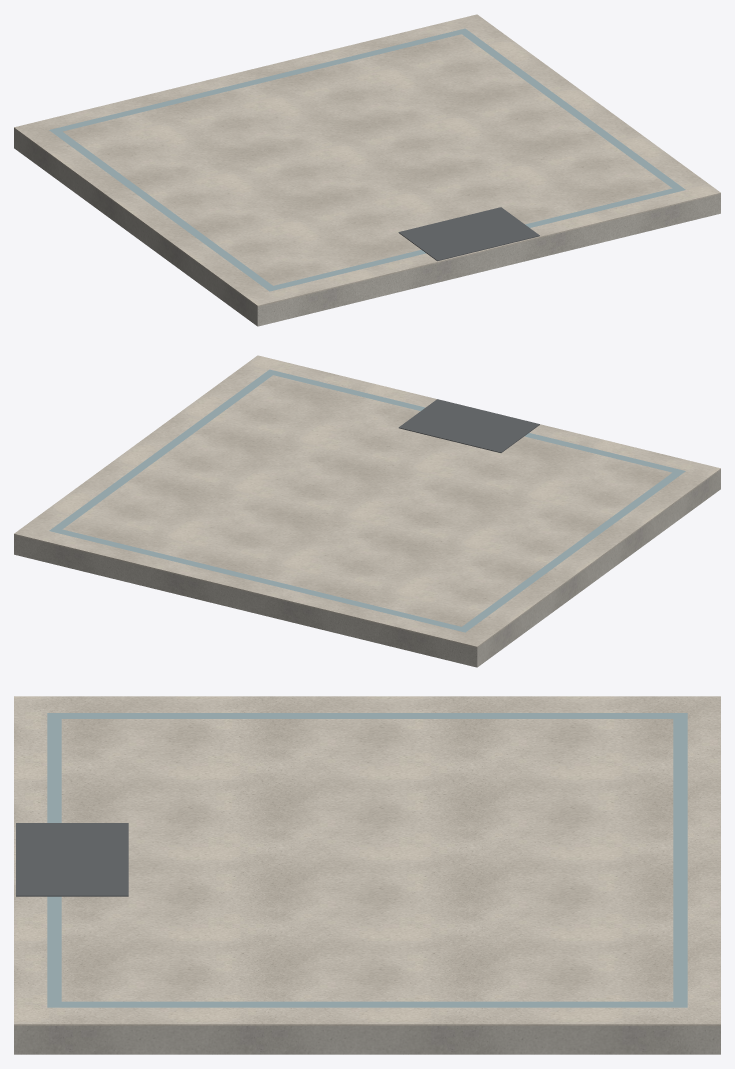
File: floor_lobby.glb
3 views of the same model, one above another, from view 1: azimuth 30°, elevation 25°; view 2: azimuth 150°, elevation 25°; view 3: azimuth 270°, elevation 25° (orthographic). The views are drawn at different scales.
Parts seen in each view (by area): view 1: floor_lobby_terrazzo, floor_lobby_concrete, floor_lobby_tile_b, floor_lobby_dark; view 2: floor_lobby_terrazzo, floor_lobby_concrete, floor_lobby_tile_b, floor_lobby_dark; view 3: floor_lobby_terrazzo, floor_lobby_concrete, floor_lobby_tile_b, floor_lobby_dark.
Boxes of the visible parts, x1=… form: floor_lobby_terrazzo: x1=14, y1=14, x2=720, y2=306; floor_lobby_concrete: x1=14, y1=129, x2=720, y2=326; floor_lobby_tile_b: x1=49, y1=28, x2=685, y2=291; floor_lobby_dark: x1=398, y1=207, x2=539, y2=261; floor_lobby_terrazzo: x1=14, y1=355, x2=720, y2=647; floor_lobby_concrete: x1=14, y1=470, x2=720, y2=667; floor_lobby_tile_b: x1=49, y1=369, x2=685, y2=632; floor_lobby_dark: x1=398, y1=399, x2=539, y2=452; floor_lobby_terrazzo: x1=14, y1=696, x2=720, y2=1025; floor_lobby_concrete: x1=14, y1=1026, x2=720, y2=1054; floor_lobby_tile_b: x1=47, y1=713, x2=687, y2=1007; floor_lobby_dark: x1=16, y1=823, x2=128, y2=896.
Bounding box in the file's own units: 8.12 × 0.362 × 7.4.
4 materials, 2 textured.
